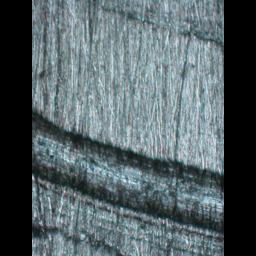d: (32, 102, 223, 256)
